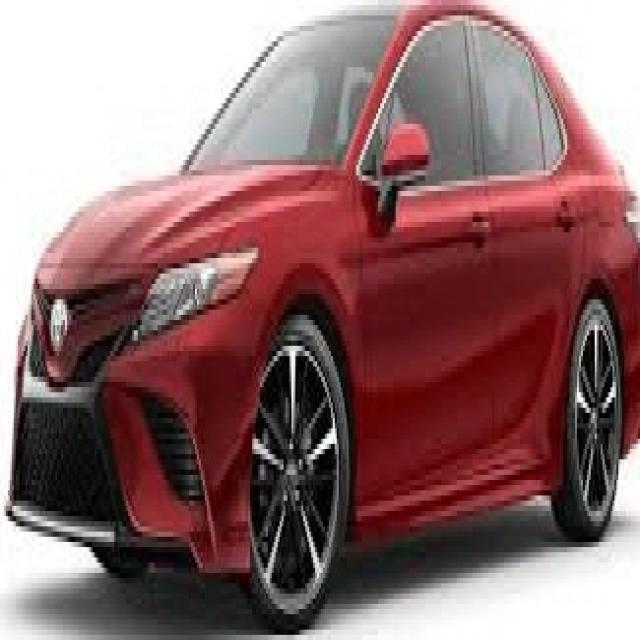maroon: (12, 7, 640, 576)
